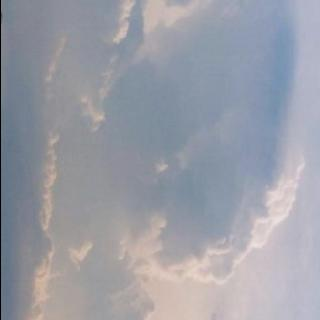Cumulonimbus: (18, 0, 304, 320)
